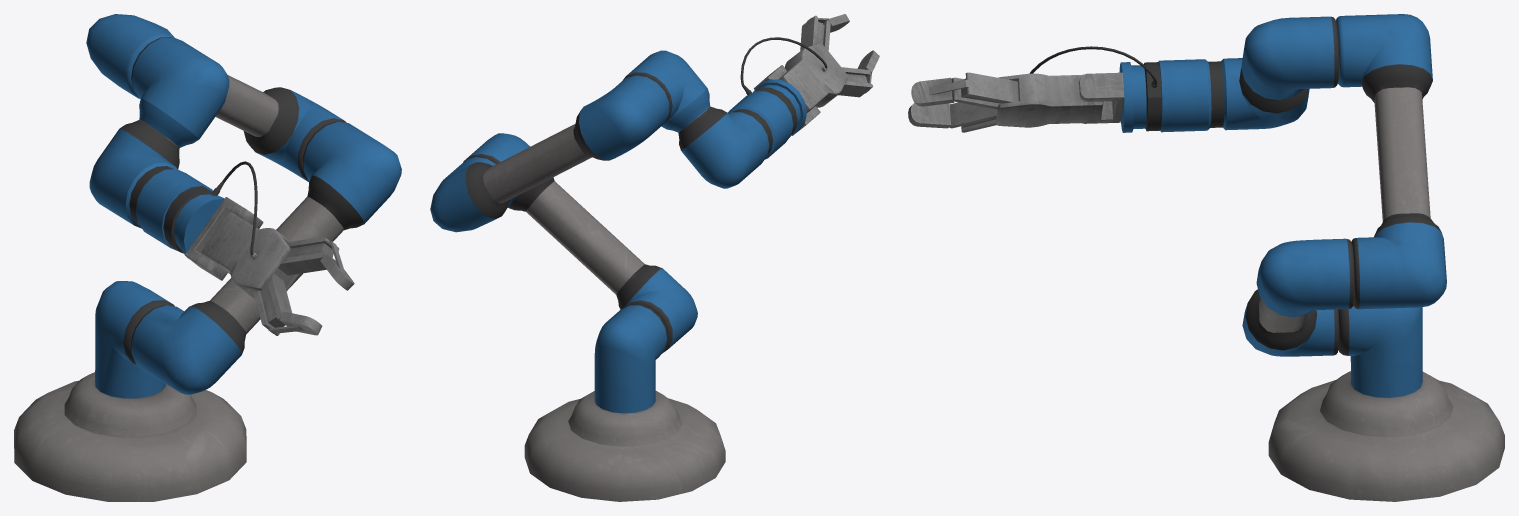
The model's file is RobotArmA3.fbx.
3 renders of one model, left to right at view 1: azimuth 30°, elevation 25°; view 2: azimuth 150°, elevation 25°; view 3: azimuth 270°, elevation 25°, orthographic. The views are drawn at different scales.
Visible parts, largest first — view 1: RobotArmA3; view 2: RobotArmA3; view 3: RobotArmA3.
Part boxes in pixels (left/top/right/bottom): RobotArmA3: left=14, top=14, right=401, bottom=501; RobotArmA3: left=430, top=14, right=879, bottom=501; RobotArmA3: left=908, top=14, right=1504, bottom=501.
Bounding box in the file's own units: 45.82 × 59.48 × 74.1.
